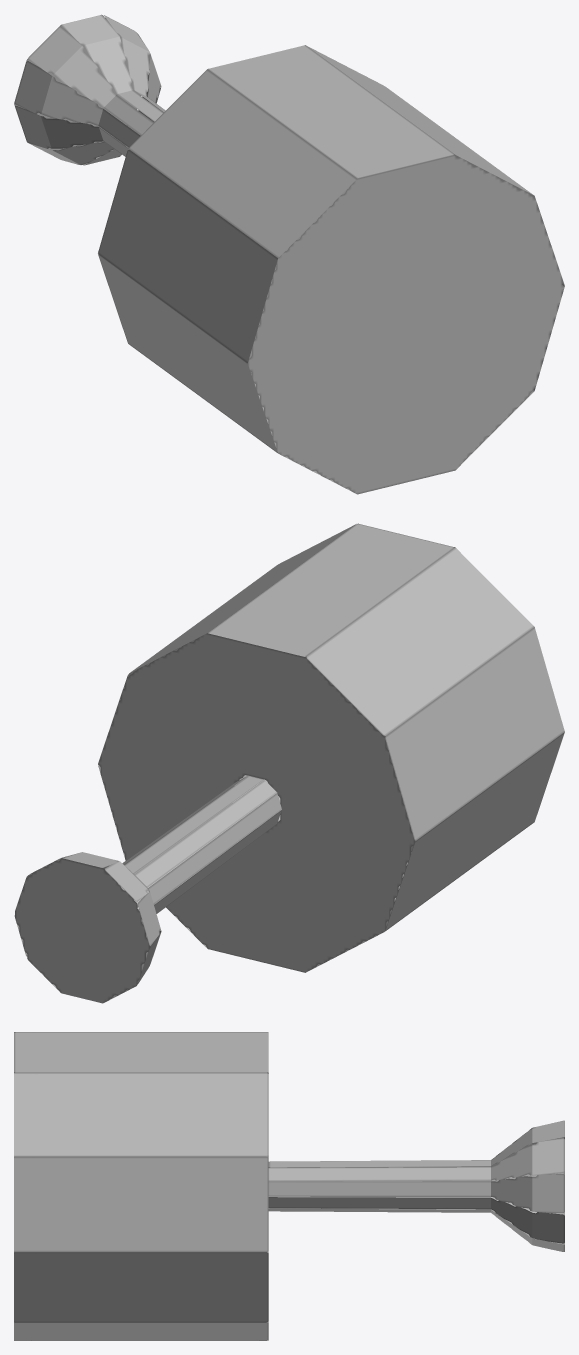
File: pz_lamp_9.obj
3 views of the same model, one above another, from view 1: azimuth 30°, elevation 25°; view 2: azimuth 150°, elevation 25°; view 3: azimuth 270°, elevation 25° (orthographic). The views are drawn at different scales.
Size of the model in its own units: 0.21 by 0.1997 by 0.372.
1 material, 1 textured.
